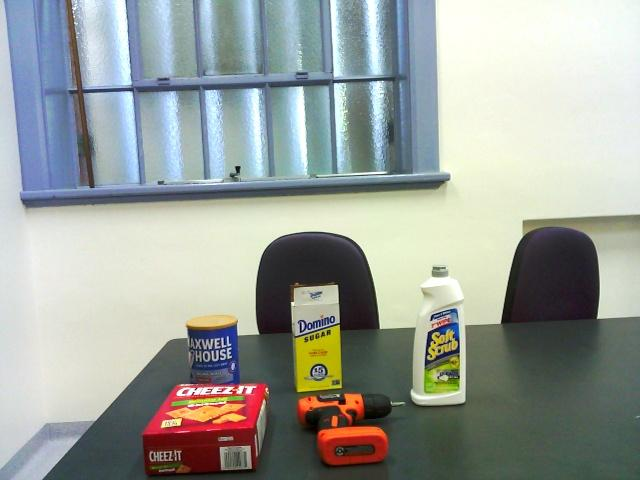002_master_chef_can: (186, 313, 242, 390)
003_cracker_box: (142, 381, 272, 475)
004_sugar_box: (288, 275, 340, 397)
021_bleach_cleanser: (408, 265, 468, 409)
035_power_drill: (296, 387, 404, 464)
